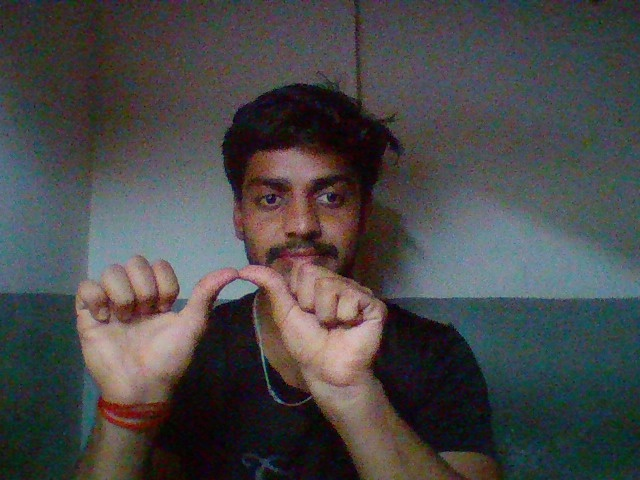A: (52, 250, 398, 391)
